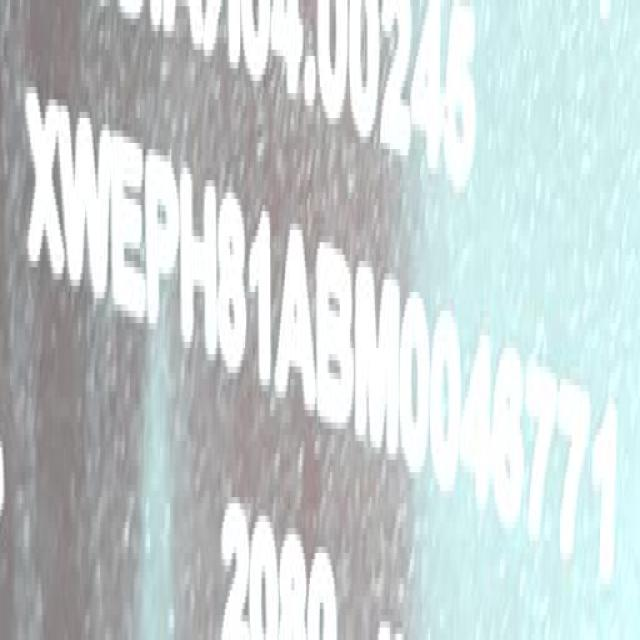0: (429, 301, 462, 504), (397, 285, 431, 482)
1: (592, 405, 620, 596), (252, 203, 275, 394)
4: (460, 324, 493, 516)
6: (492, 327, 524, 541)
7: (554, 372, 590, 573), (526, 343, 556, 568)
8: (215, 188, 248, 378)
A: (276, 216, 318, 415)
B: (317, 239, 353, 432)
E: (112, 129, 146, 329)
H: (182, 167, 218, 364)
M: (353, 260, 399, 460)
P: (144, 145, 179, 343)
W: (62, 101, 115, 308)
X: (25, 88, 65, 292)
